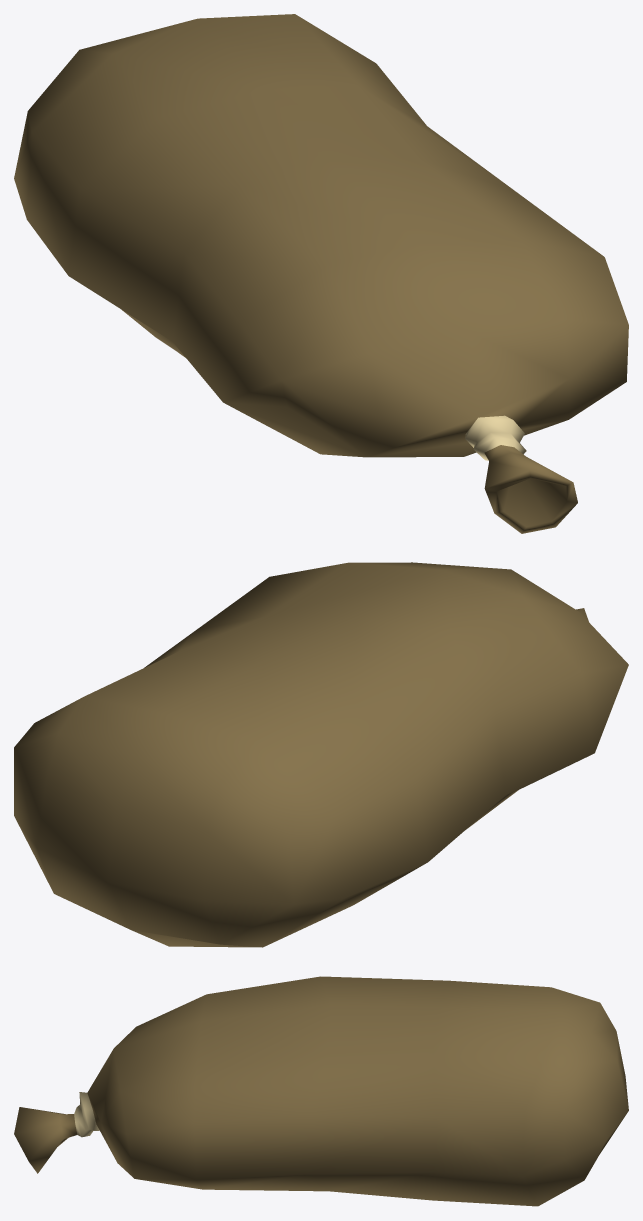
File: rpgpp_lt_sack_01.glb
3 renders of one model, top to bottom at view 1: azimuth 30°, elevation 25°; view 2: azimuth 150°, elevation 25°; view 3: azimuth 270°, elevation 25°, orthographic. The views are drawn at different scales.
Parts seen in each view (by area): view 1: rpgpp_lt_sack_01; view 2: rpgpp_lt_sack_01; view 3: rpgpp_lt_sack_01.
Part boxes in pixels (x1=…): rpgpp_lt_sack_01: x1=14, y1=14, x2=628, y2=533; rpgpp_lt_sack_01: x1=14, y1=562, x2=628, y2=947; rpgpp_lt_sack_01: x1=14, y1=976, x2=628, y2=1206.
Size of the model in its own units: 0.815 by 0.5139 by 1.65.
1 material, 1 textured.
